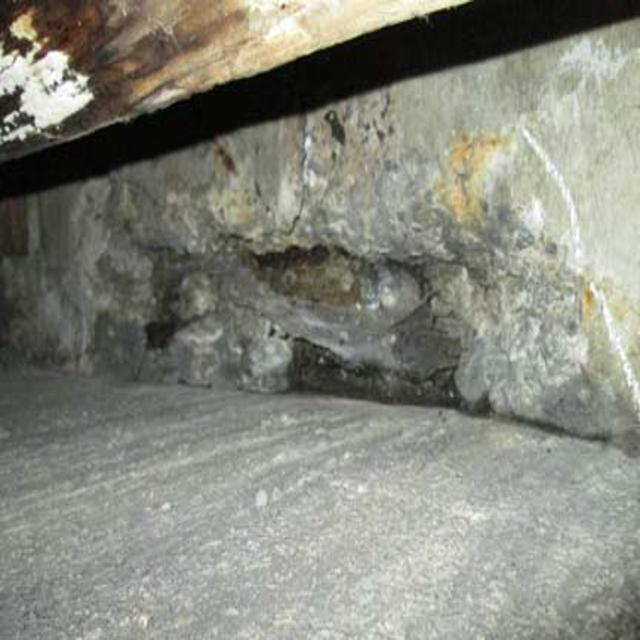spalling: (104, 121, 603, 442)
